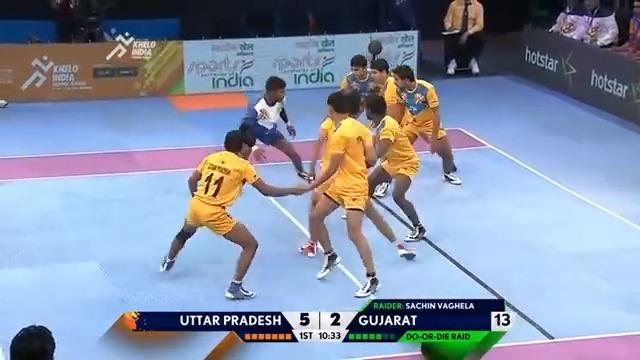Player: (157, 126, 316, 301), (304, 86, 381, 299), (389, 62, 463, 186), (374, 59, 395, 102), (343, 66, 369, 98)
Raider: (235, 74, 313, 183)
referee: (441, 0, 485, 75), (553, 0, 619, 48)
